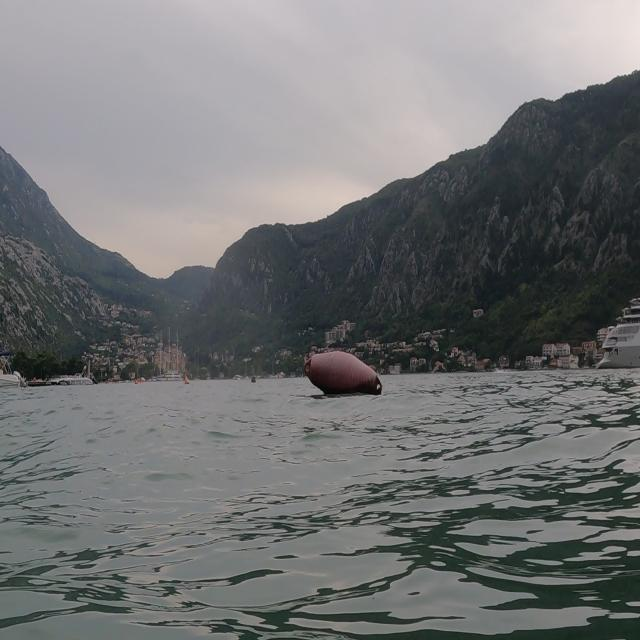boat: (595, 285, 640, 381), (154, 323, 189, 382)
buoy: (295, 342, 414, 418)
